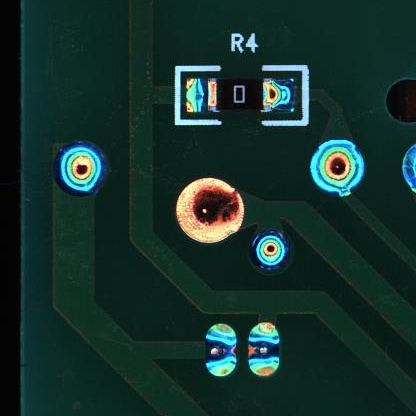spot: (307, 138, 365, 200), (55, 140, 109, 196), (246, 323, 282, 379), (206, 323, 236, 375)
